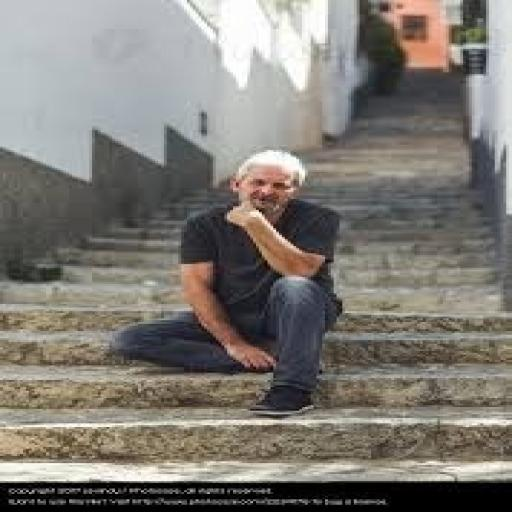sitting: (106, 147, 348, 416)
